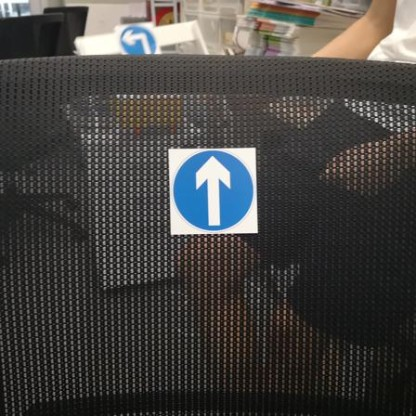forward: (169, 147, 258, 234)
